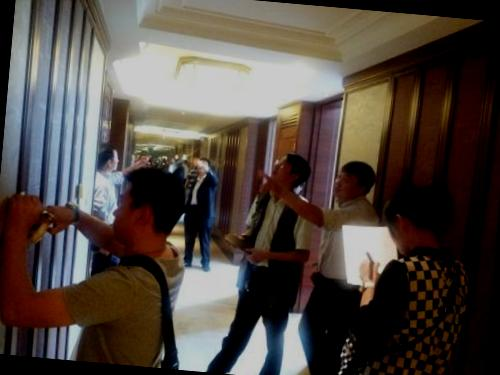no_helmet: (108, 160, 188, 260), (385, 178, 453, 256), (268, 150, 312, 197), (336, 158, 378, 203), (96, 142, 124, 178)
